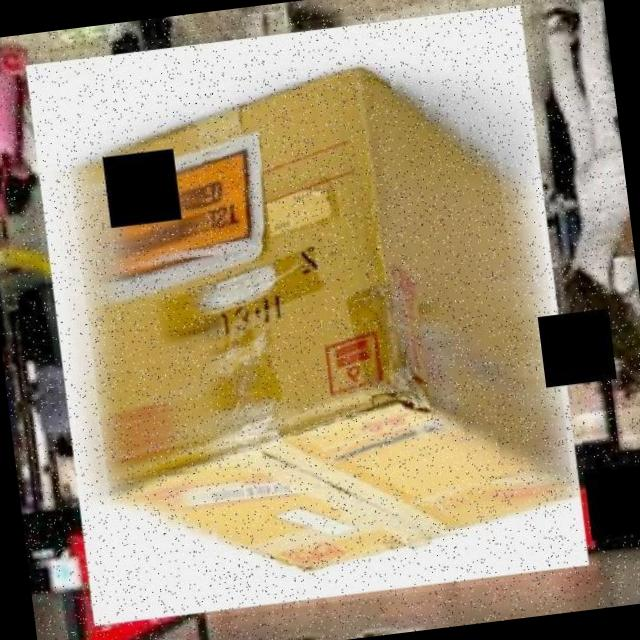box: (17, 0, 598, 632)
